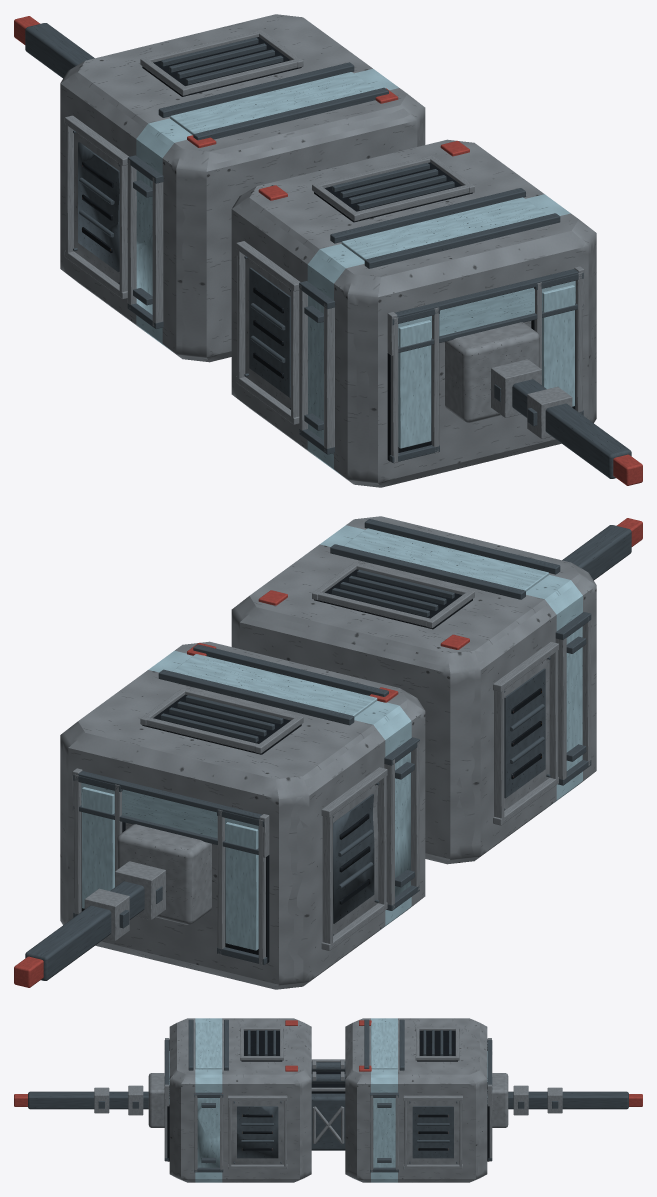
3 renders of one model, top to bottom at view 1: azimuth 30°, elevation 25°; view 2: azimuth 150°, elevation 25°; view 3: azimuth 270°, elevation 25°, orthographic. The views are drawn at different scales.
Visible parts, largest first — view 1: PrimaryHullAndArmour, RecessedMachinery, TrimAndFasteners, ServiceAssemblies; view 2: PrimaryHullAndArmour, RecessedMachinery, TrimAndFasteners, ServiceAssemblies; view 3: PrimaryHullAndArmour, RecessedMachinery, ServiceAssemblies, TrimAndFasteners.
Part boxes in pixels (x1,y1,x2,y2): PrimaryHullAndArmour: (14,14,642,487); RecessedMachinery: (78,37,472,397); TrimAndFasteners: (73,62,560,409); ServiceAssemblies: (74,133,290,409); PrimaryHullAndArmour: (14,516,642,989); RecessedMachinery: (142,569,545,923); TrimAndFasteners: (158,519,560,935); ServiceAssemblies: (333,659,549,935); PrimaryHullAndArmour: (14,1018,642,1182); RecessedMachinery: (237,1030,457,1158); ServiceAssemblies: (231,1101,459,1164); TrimAndFasteners: (188,1019,457,1163).
Bounding box in the file's own units: 1.12 × 0.8765 × 4.44.
1 material, 1 textured.
